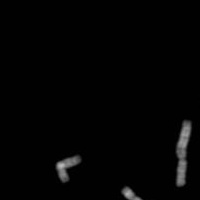chromosome: (174, 120, 191, 186), (57, 155, 81, 182), (121, 187, 164, 200)
